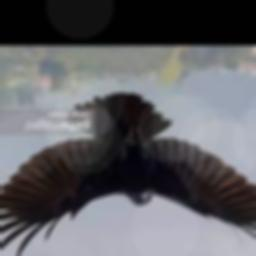Crow: (0, 93, 256, 256)
